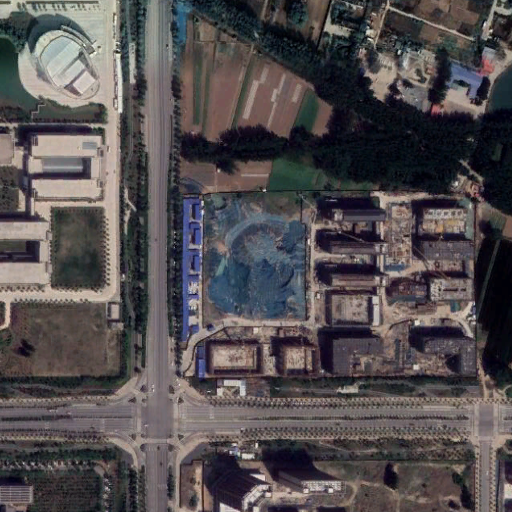cw: (203, 190, 308, 322)
